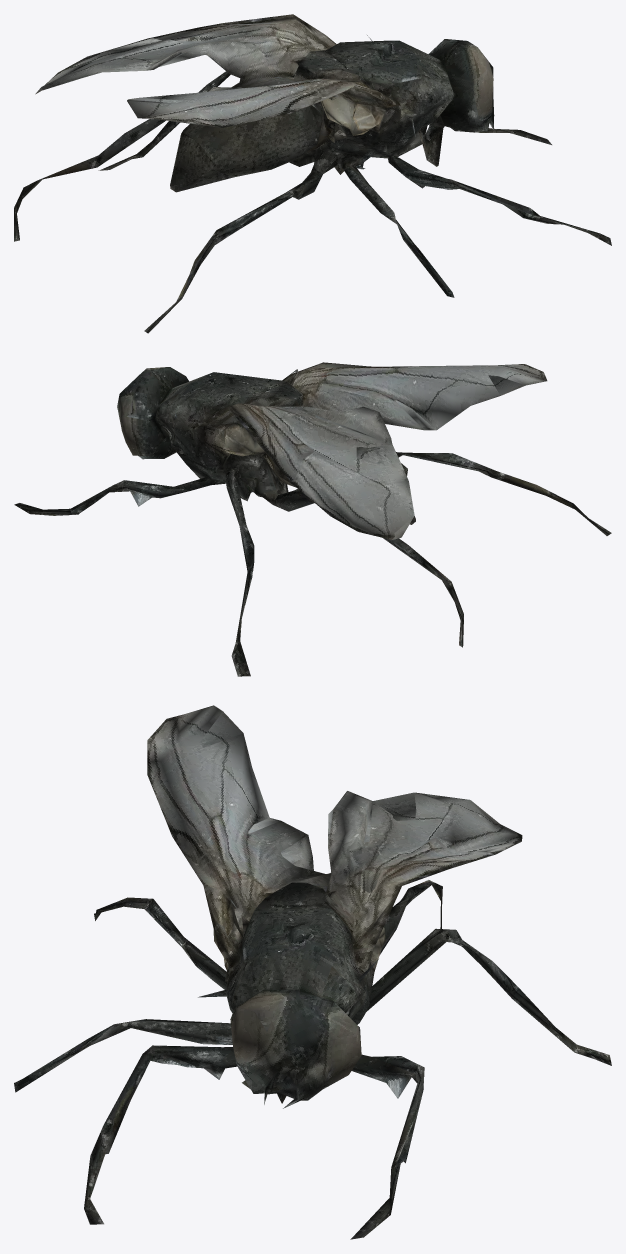
File: housefly.glb
3 views of the same model, one above another, from view 1: azimuth 30°, elevation 25°; view 2: azimuth 150°, elevation 25°; view 3: azimuth 270°, elevation 25° (orthographic). The views are drawn at different scales.
Parts seen in each view (by area): view 1: Object_2; view 2: Object_2; view 3: Object_2.
Boxes of the visible parts, box(x1,y1,x2,y2) form: Object_2: box(14, 14, 611, 333); Object_2: box(14, 362, 611, 676); Object_2: box(14, 705, 611, 1239).
Bounding box in the file's own units: 0.00889 × 0.00371 × 0.00735.
Materials: 1 (1 with a texture image).
